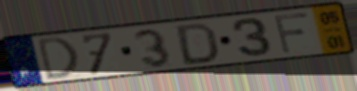3: (230, 17, 275, 59), (133, 26, 174, 68)
7: (79, 31, 115, 77)
D: (35, 34, 81, 83), (175, 21, 221, 67)
F: (271, 10, 311, 56)
